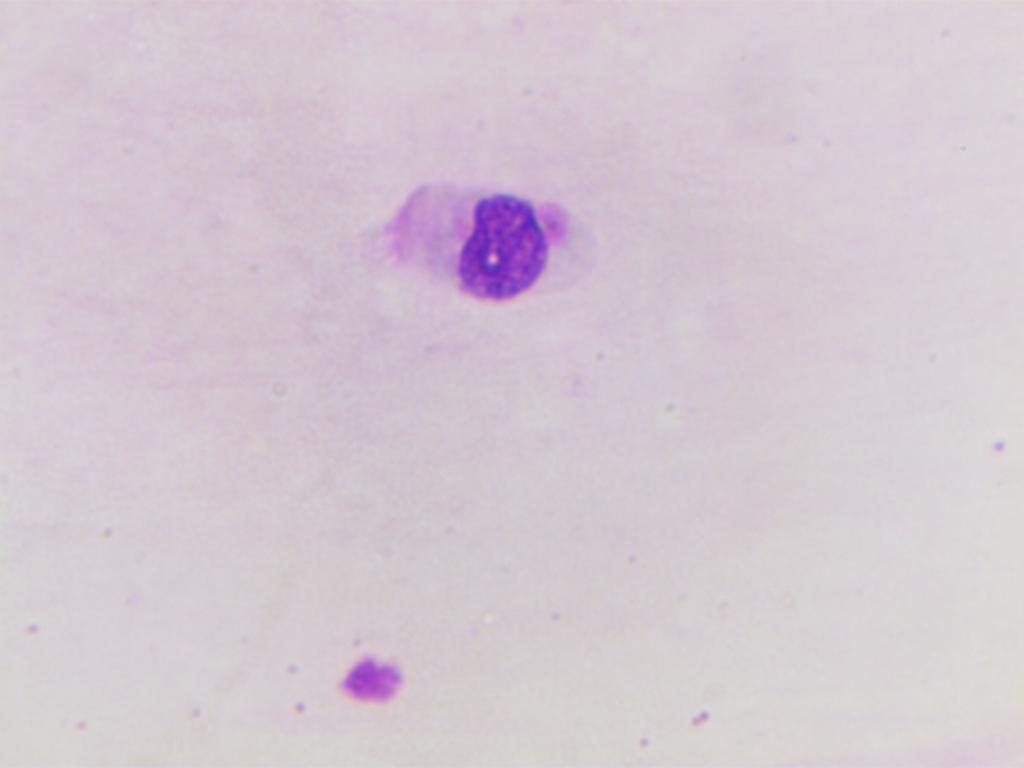artifact: (333, 644, 416, 717)
epithelial: (393, 183, 576, 299)
